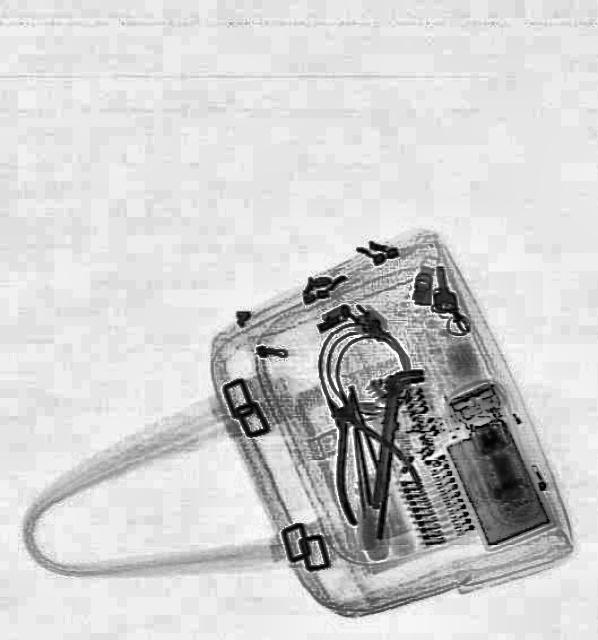Pliers: (292, 372, 428, 526)
